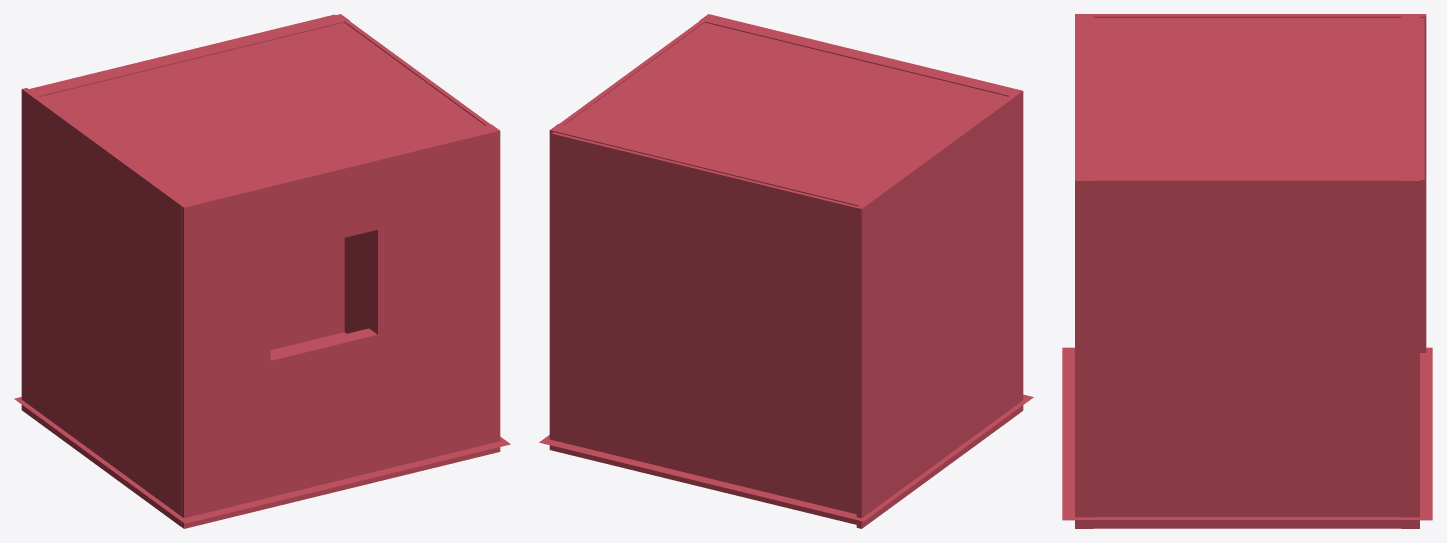
File: Full_House.glb
3 views of the same model, side by side, from view 1: azimuth 30°, elevation 25°; view 2: azimuth 150°, elevation 25°; view 3: azimuth 270°, elevation 25° (orthographic). The views are drawn at different scales.
Parts seen in each view (by area): view 1: Mesh_Mesh_head_geo.001_lambert2SG.001; view 2: Mesh_Mesh_head_geo.001_lambert2SG.001; view 3: Mesh_Mesh_head_geo.001_lambert2SG.001.
Part boxes in pixels (bbox=[...]): Mesh_Mesh_head_geo.001_lambert2SG.001: bbox=[14, 14, 510, 528]; Mesh_Mesh_head_geo.001_lambert2SG.001: bbox=[539, 14, 1033, 528]; Mesh_Mesh_head_geo.001_lambert2SG.001: bbox=[1062, 14, 1432, 528].
Bounding box in the file's own units: 0.2064 × 0.1943 × 0.1873.
